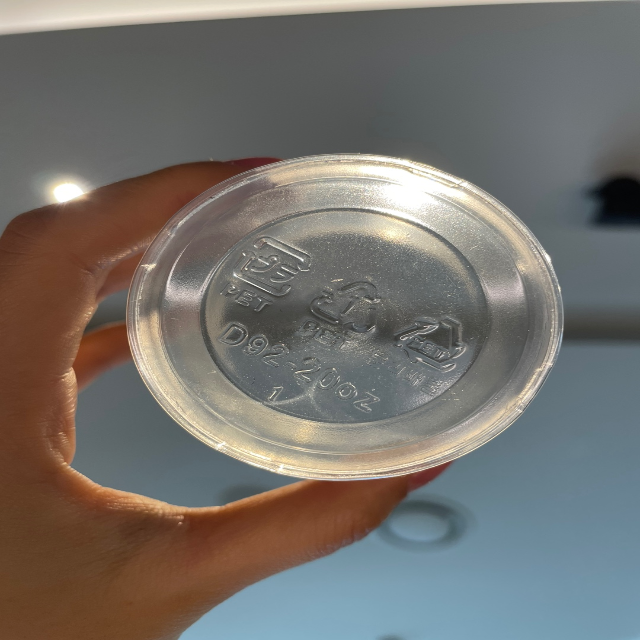pet: (383, 299, 473, 398), (221, 229, 314, 318), (304, 266, 384, 354)
